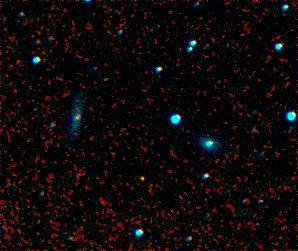star: (126, 162, 156, 192)
